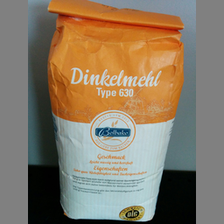flour: (47, 1, 185, 224)
